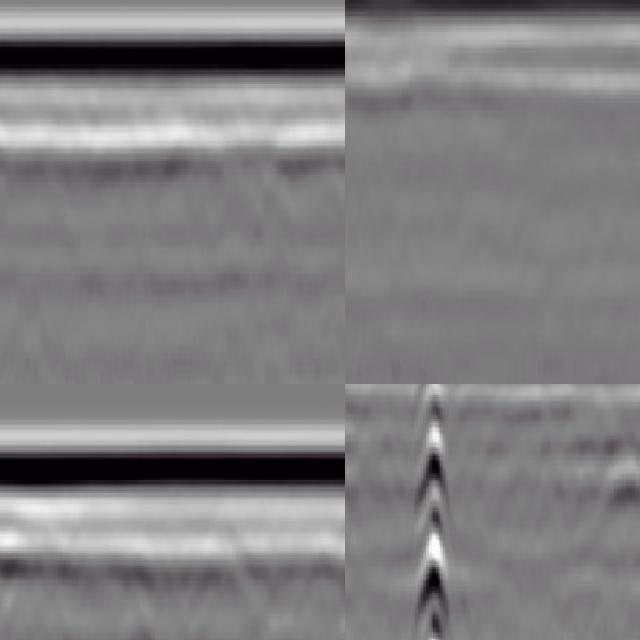crack: (412, 385, 452, 640)
